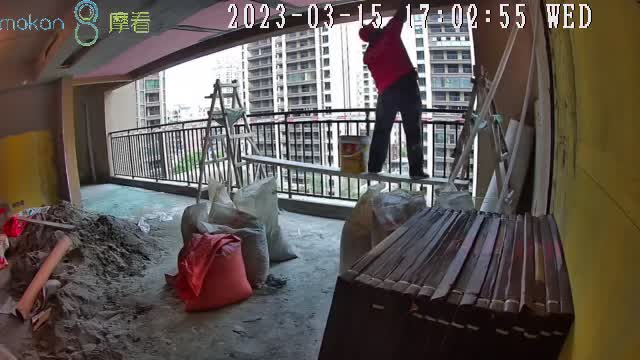people: (355, 1, 430, 180)
window: (111, 30, 481, 208)
